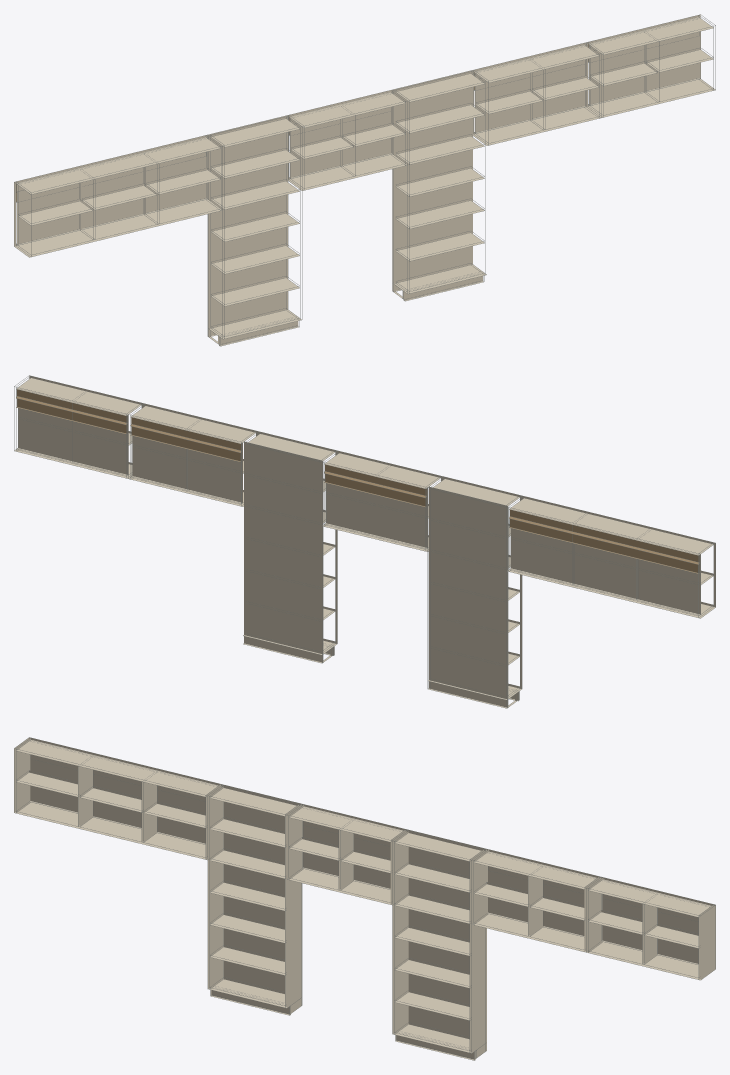
File: modell.glb
3 views of the same model, one above another, from view 1: azimuth 30°, elevation 25°; view 2: azimuth 150°, elevation 25°; view 3: azimuth 330°, elevation 25° (orthographic).
Size of the model in its own units: 7802 by 2201 by 302.
